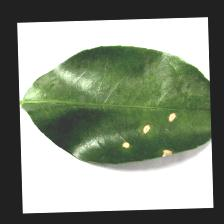canker: (116, 101, 187, 163)
